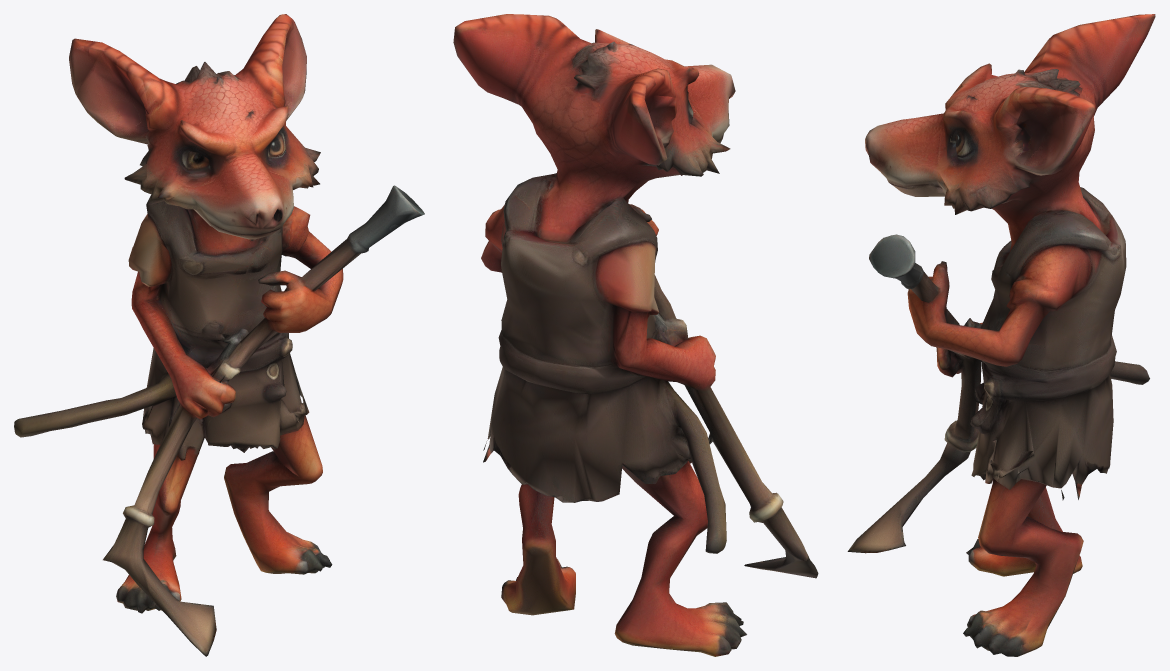
File: kobold.glb
3 views of the same model, side by side, from view 1: azimuth 30°, elevation 25°; view 2: azimuth 150°, elevation 25°; view 3: azimuth 270°, elevation 25° (orthographic). The views are drawn at different scales.
Size of the model in its own units: 1.18 by 2 by 1.01.
1 material, 1 textured.
